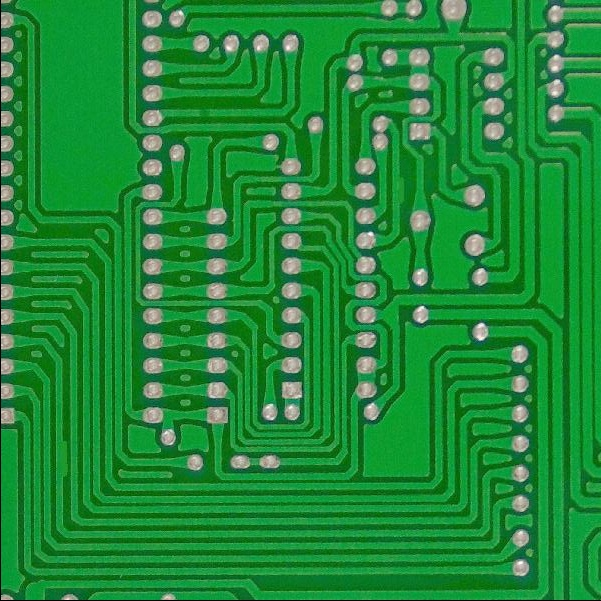spur: (54, 438, 72, 482), (392, 171, 407, 211)
